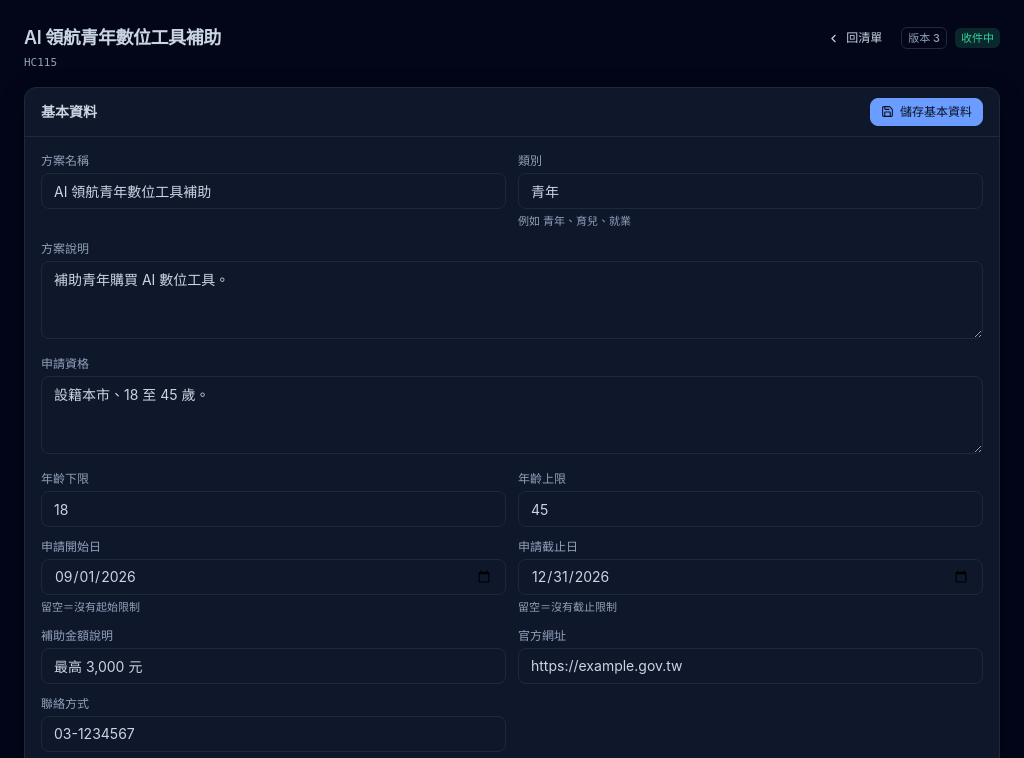
Test case: 方案編輯器 › 撞到 409 時說的是「請重新載入」，並留一顆重新載入鍵
Check: the field showing "AI 領航青年數位工具補助" is shown, box [41,173,506,209]
Click the button "儲存基本資料".
click(926, 112)  # box [870,98,983,126]
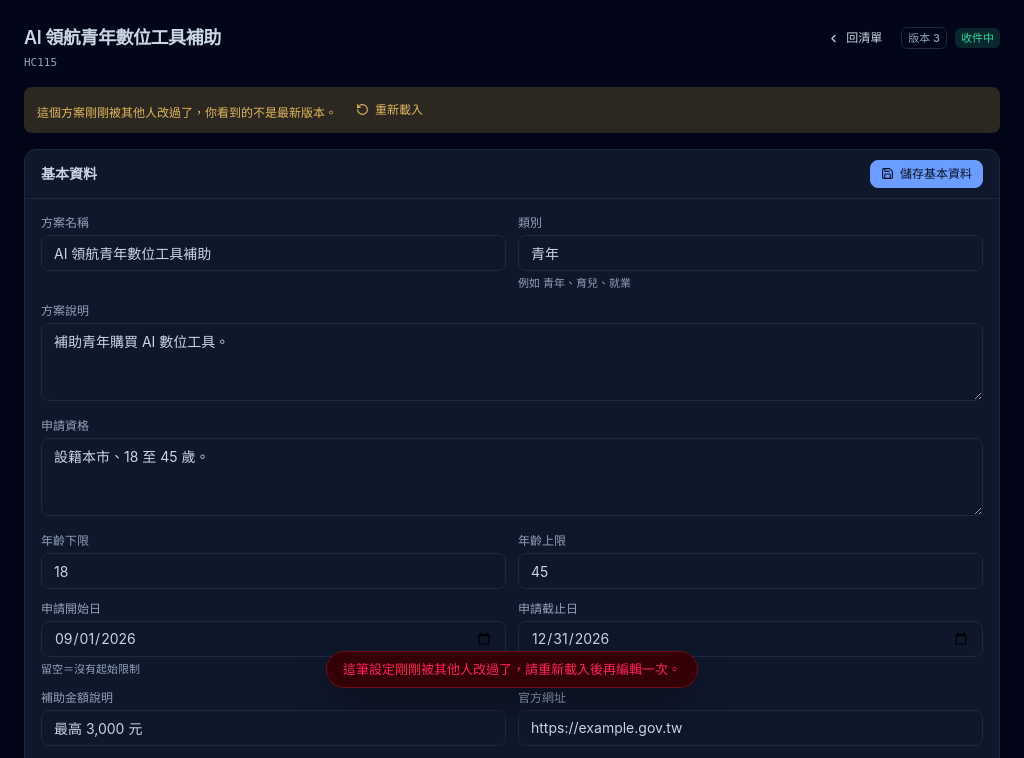
Check: the text "這個方案剛剛被其他人改過了，你看到的不是最新版本。 重新載入" is shown, box [24,87,1000,133]
Check: the button "重新載入" is shown, box [345,96,434,124]
